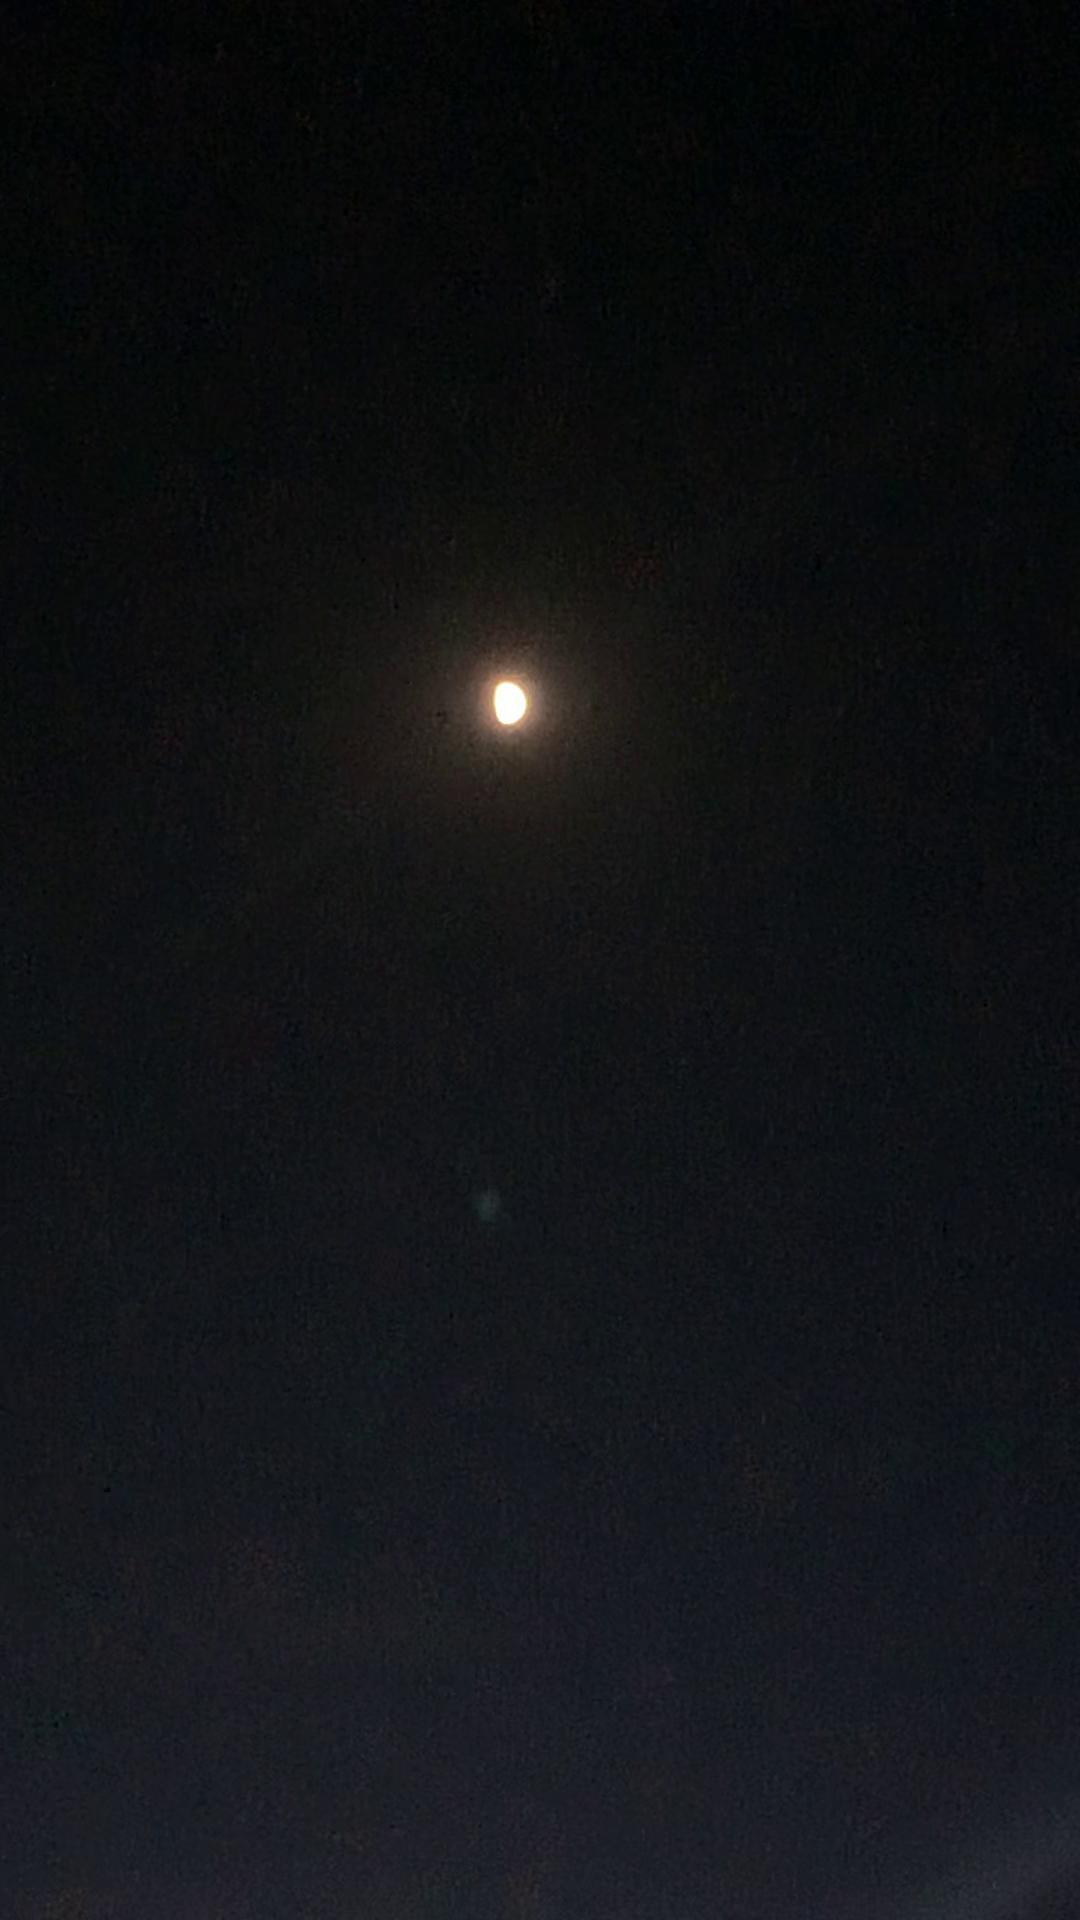moon: (484, 642, 554, 712)
